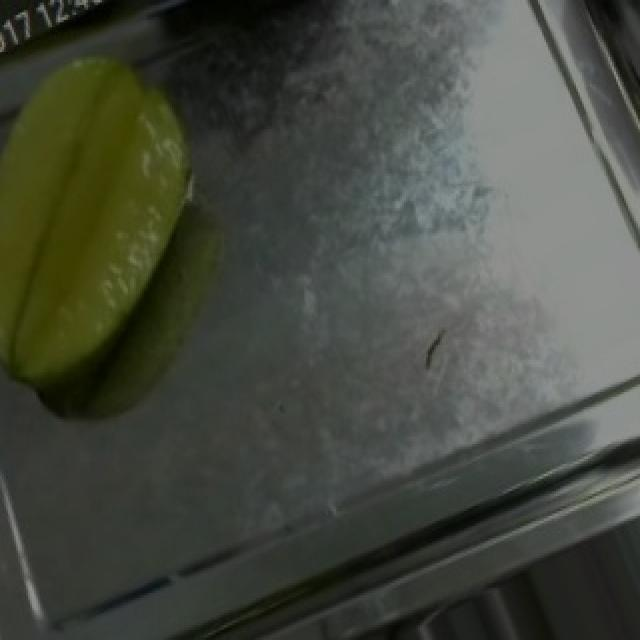fruit: (0, 10, 256, 404)
